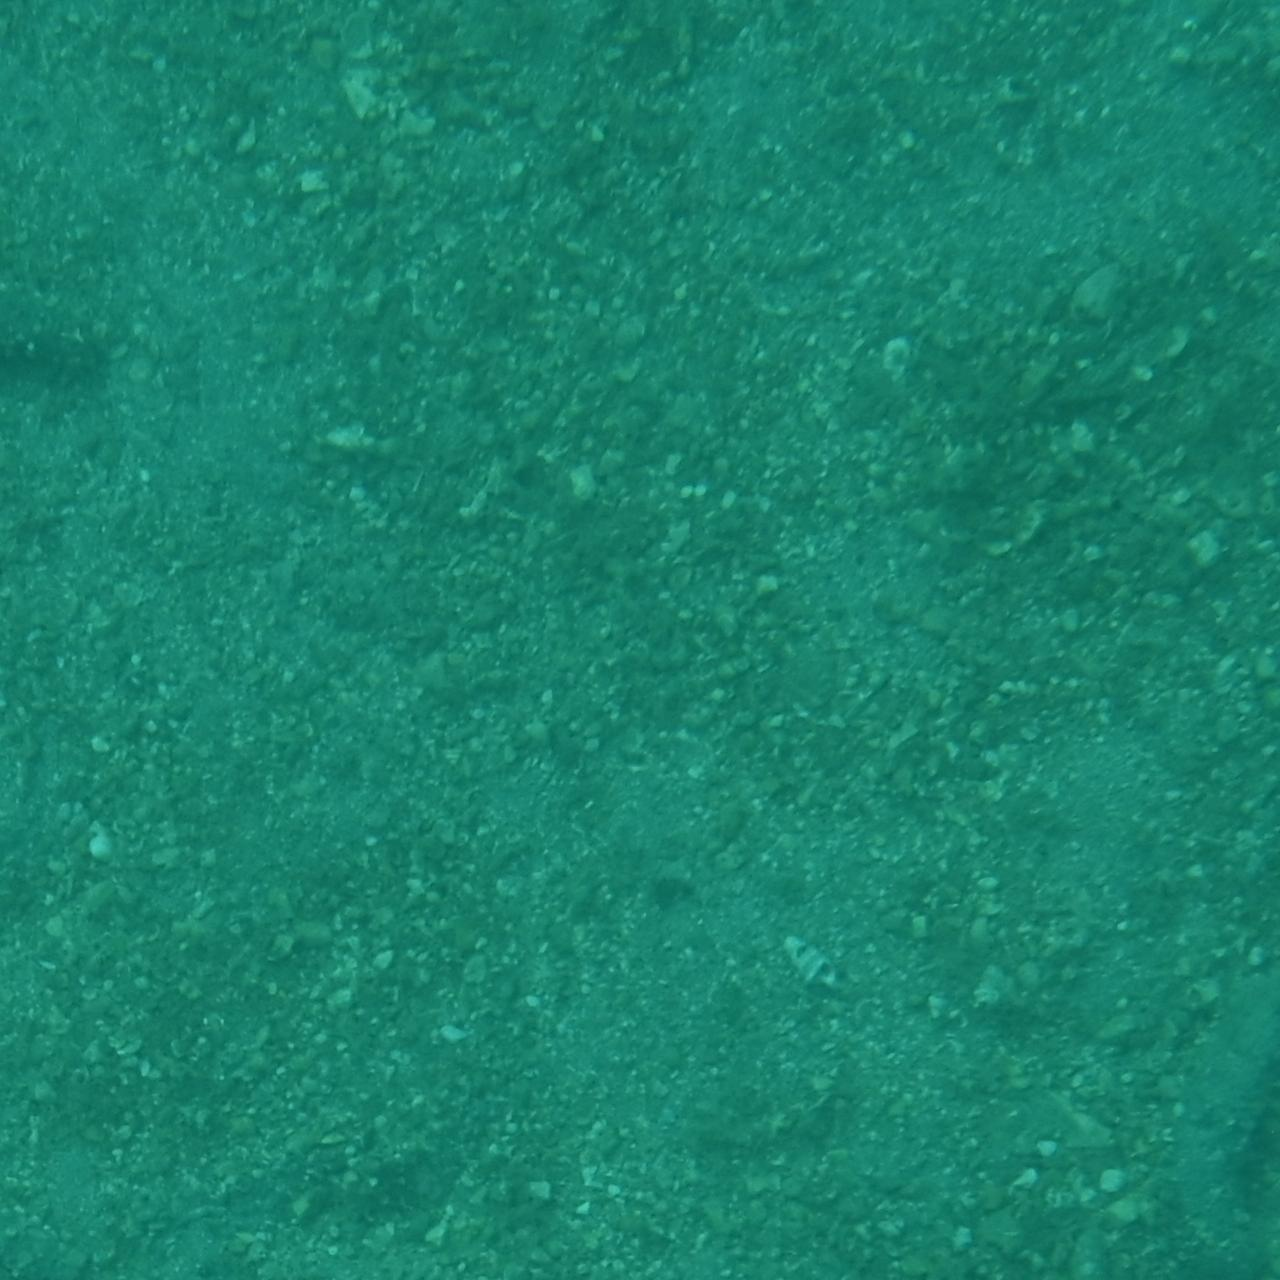Holothuria tubulosa: (492, 1117, 836, 1280), (1126, 933, 1280, 1280), (0, 277, 182, 462), (0, 0, 172, 163), (0, 150, 224, 274), (1143, 1096, 1280, 1280), (0, 1164, 182, 1280), (0, 168, 73, 450), (1200, 1036, 1280, 1280), (0, 1206, 198, 1280)
